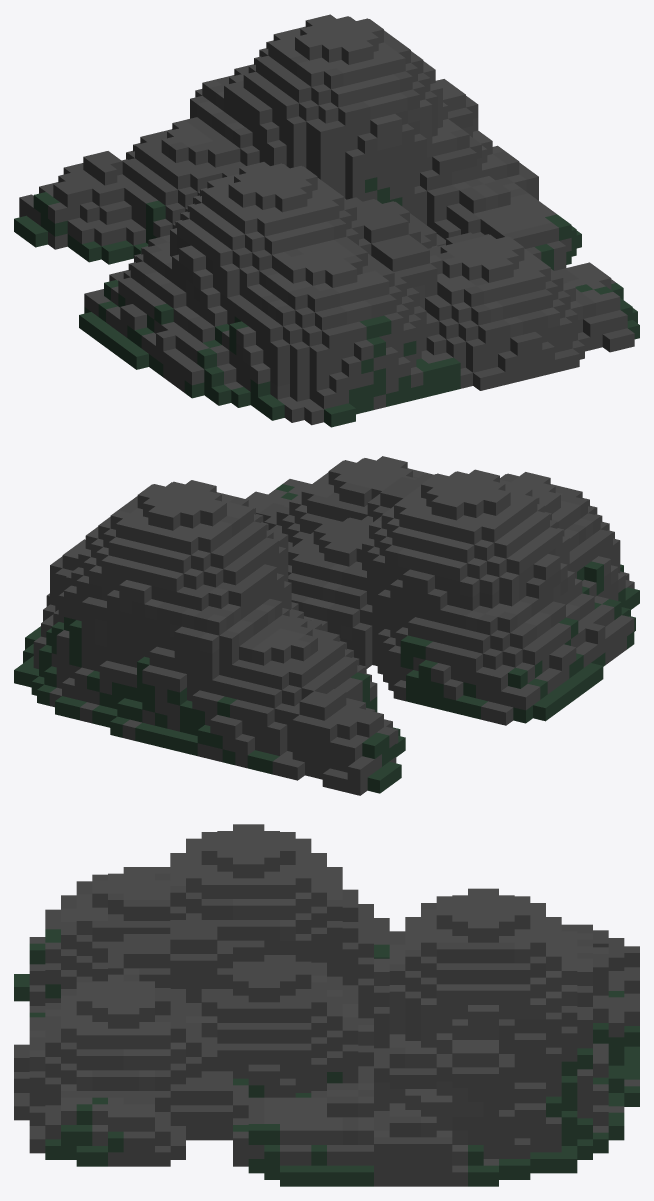
Rendered from stone6.obj.
3 renders of one model, top to bottom at view 1: azimuth 30°, elevation 25°; view 2: azimuth 150°, elevation 25°; view 3: azimuth 270°, elevation 25°, orthographic. The views are drawn at different scales.
Bounding box in the file's own units: 3.7 × 1.4 × 4.
Materials: 1 (1 with a texture image).
